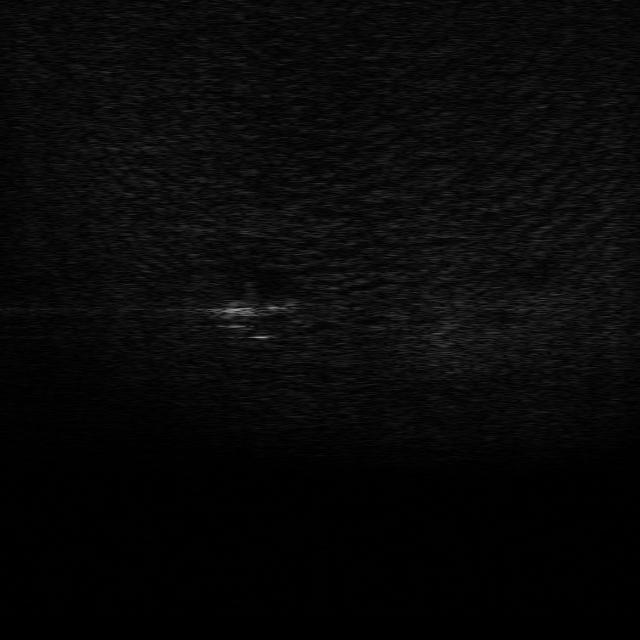plane: (211, 294, 310, 343)
